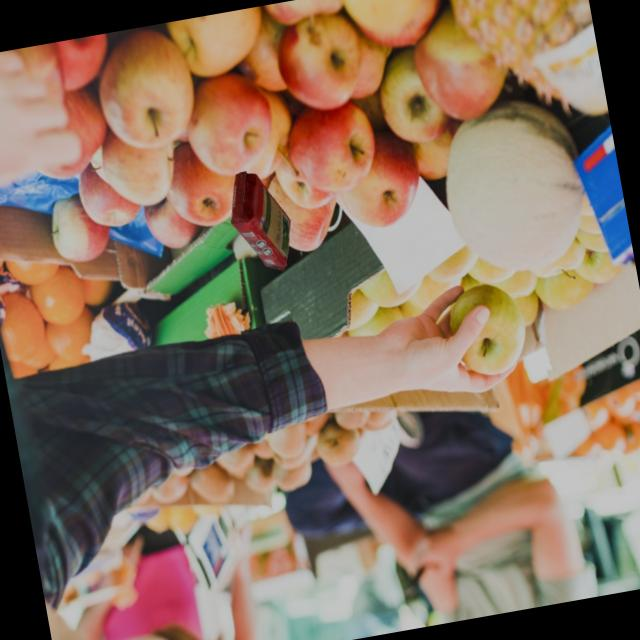mate bag: (224, 164, 296, 281)
